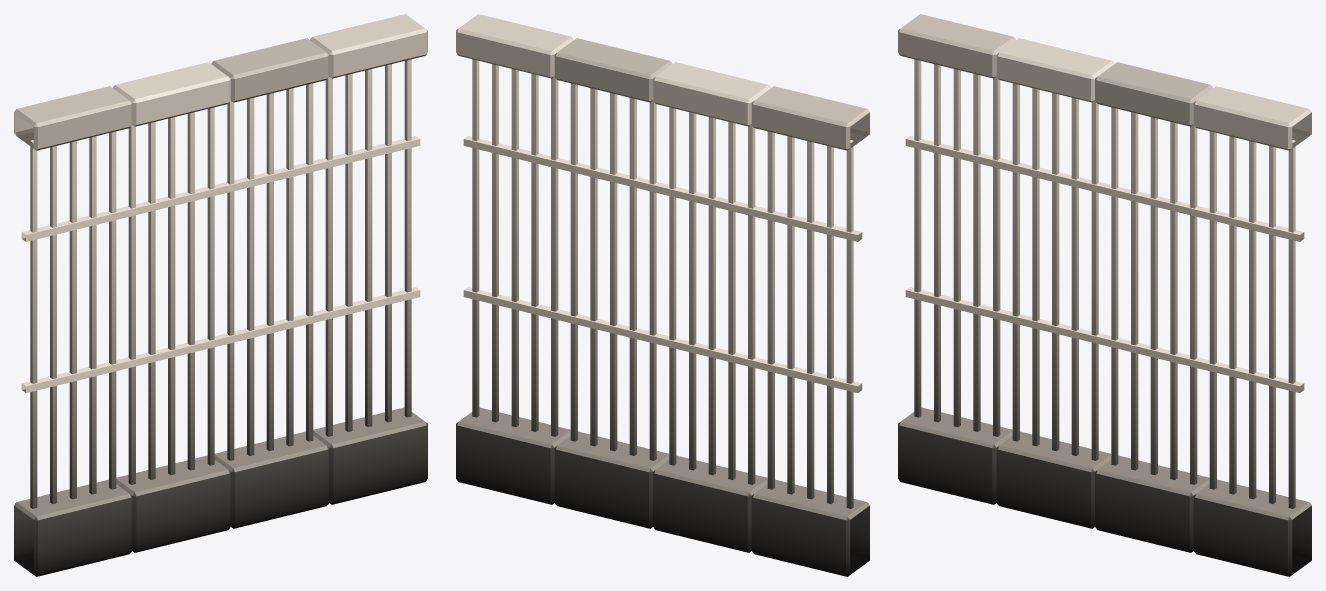
The model's file is SM_VKI_Wall_Bars_Plain_300_Full.fbx.
The picture shows the model from 3 angles, left to right: view 1: azimuth 30°, elevation 25°; view 2: azimuth 150°, elevation 25°; view 3: azimuth 330°, elevation 25°; orthographic projection.
Visible parts, largest first — view 1: SM_VKI_Wall_Bars_Plain_300_Full.001; view 2: SM_VKI_Wall_Bars_Plain_300_Full.001; view 3: SM_VKI_Wall_Bars_Plain_300_Full.001.
Part boxes in pixels (x1,y1,x2,y2): SM_VKI_Wall_Bars_Plain_300_Full.001: (14,14,427,576); SM_VKI_Wall_Bars_Plain_300_Full.001: (456,14,869,576); SM_VKI_Wall_Bars_Plain_300_Full.001: (898,14,1311,576).
Bounding box in the file's own units: 3 × 3.3 × 0.3.
